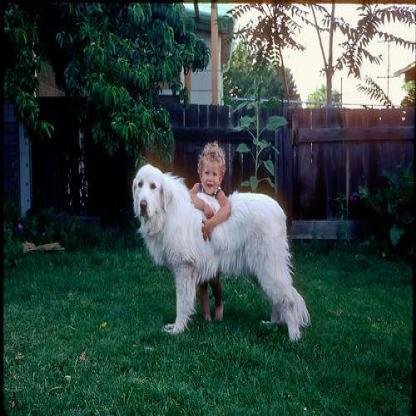Great_Pyrenees: (132, 164, 308, 342)
